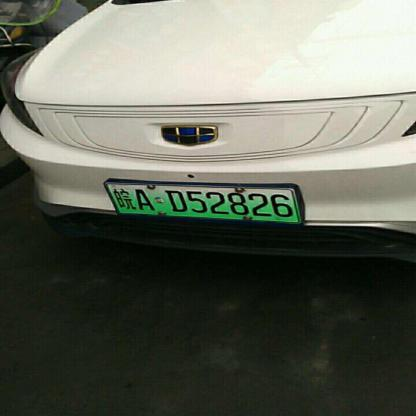lp: (107, 183, 300, 222)
